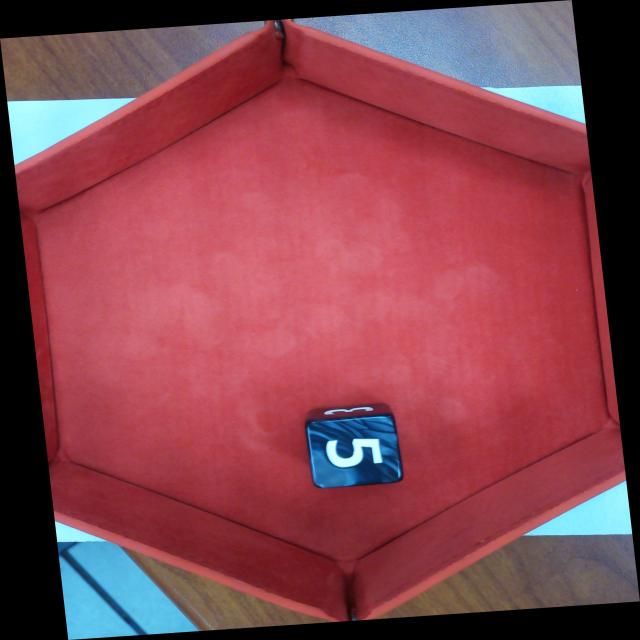dice: (302, 413, 406, 491)
